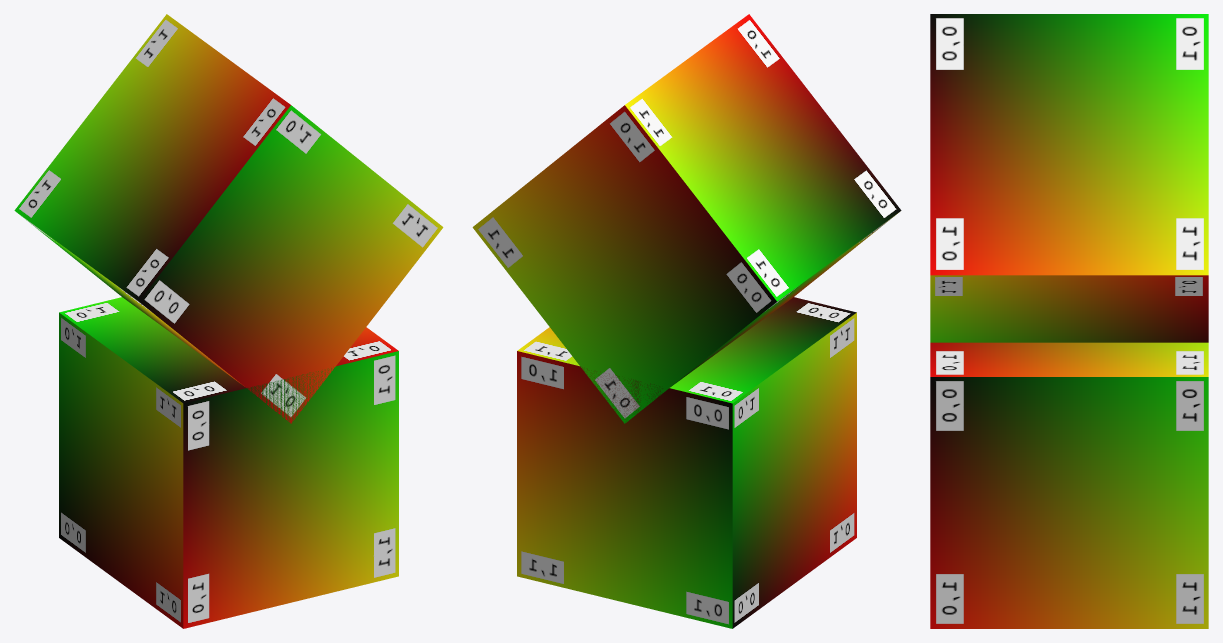
File: cubes.gltf
The picture shows the model from 3 angles, left to right: view 1: azimuth 30°, elevation 25°; view 2: azimuth 150°, elevation 25°; view 3: azimuth 270°, elevation 25°; orthographic projection. The views are drawn at different scales.
Bounding box in the file's own units: 1.41 × 2.21 × 1.
2 materials, 2 textured.
